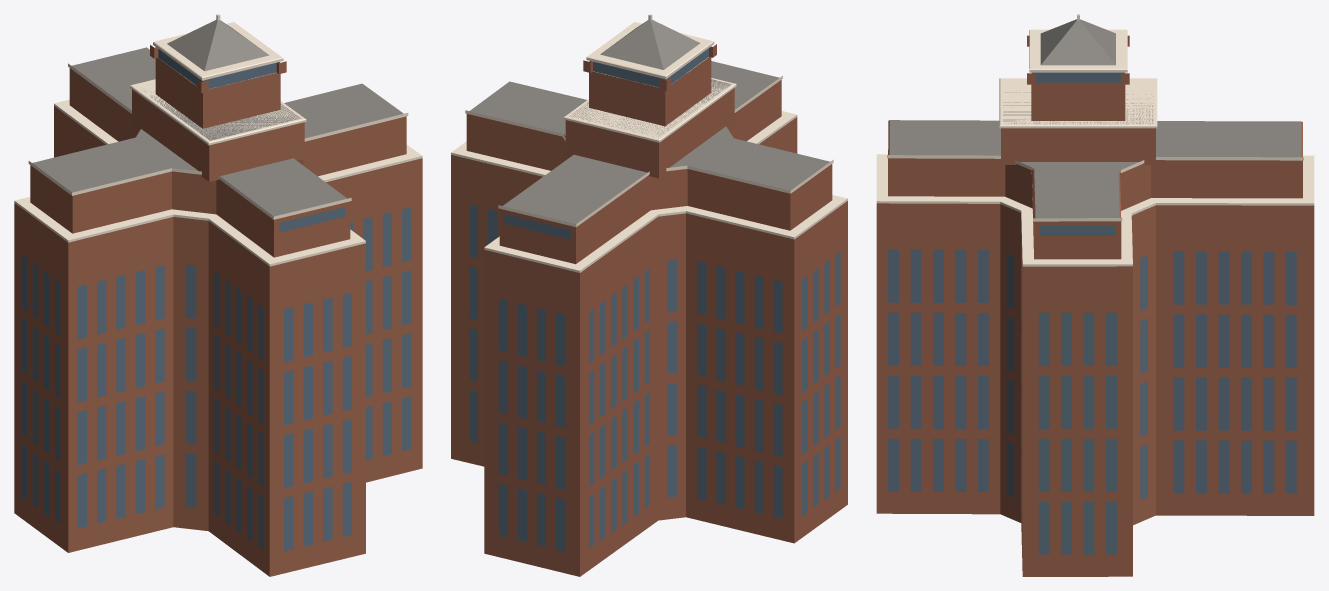
File: ric-west-hospital.glb
3 renders of one model, left to right at view 1: azimuth 30°, elevation 25°; view 2: azimuth 150°, elevation 25°; view 3: azimuth 270°, elevation 25°, orthographic. The views are drawn at different scales.
Visible parts, largest first — view 1: West Hospital; view 2: West Hospital; view 3: West Hospital.
Boxes of the visible parts, <box> form: West Hospital: <box>14,14,422,576</box>; West Hospital: <box>451,14,847,576</box>; West Hospital: <box>876,14,1314,576</box>.
Size of the model in its own units: 56.27 by 72.6 by 60.59.
